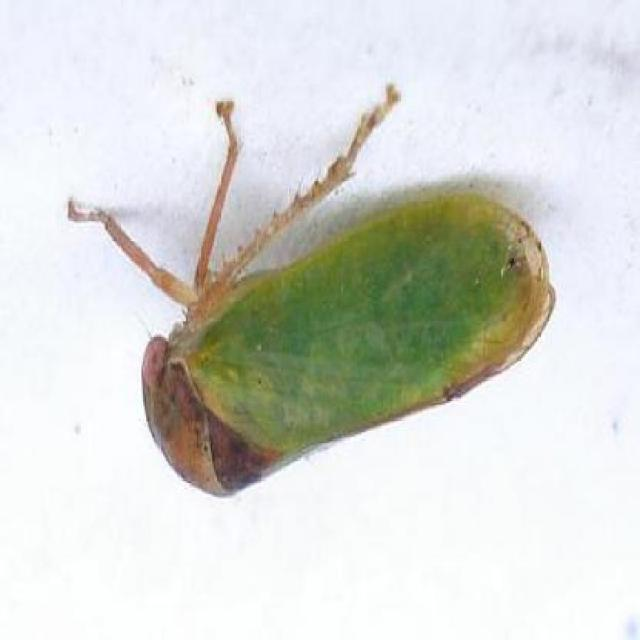green-leafhopper: (130, 178, 558, 496)
